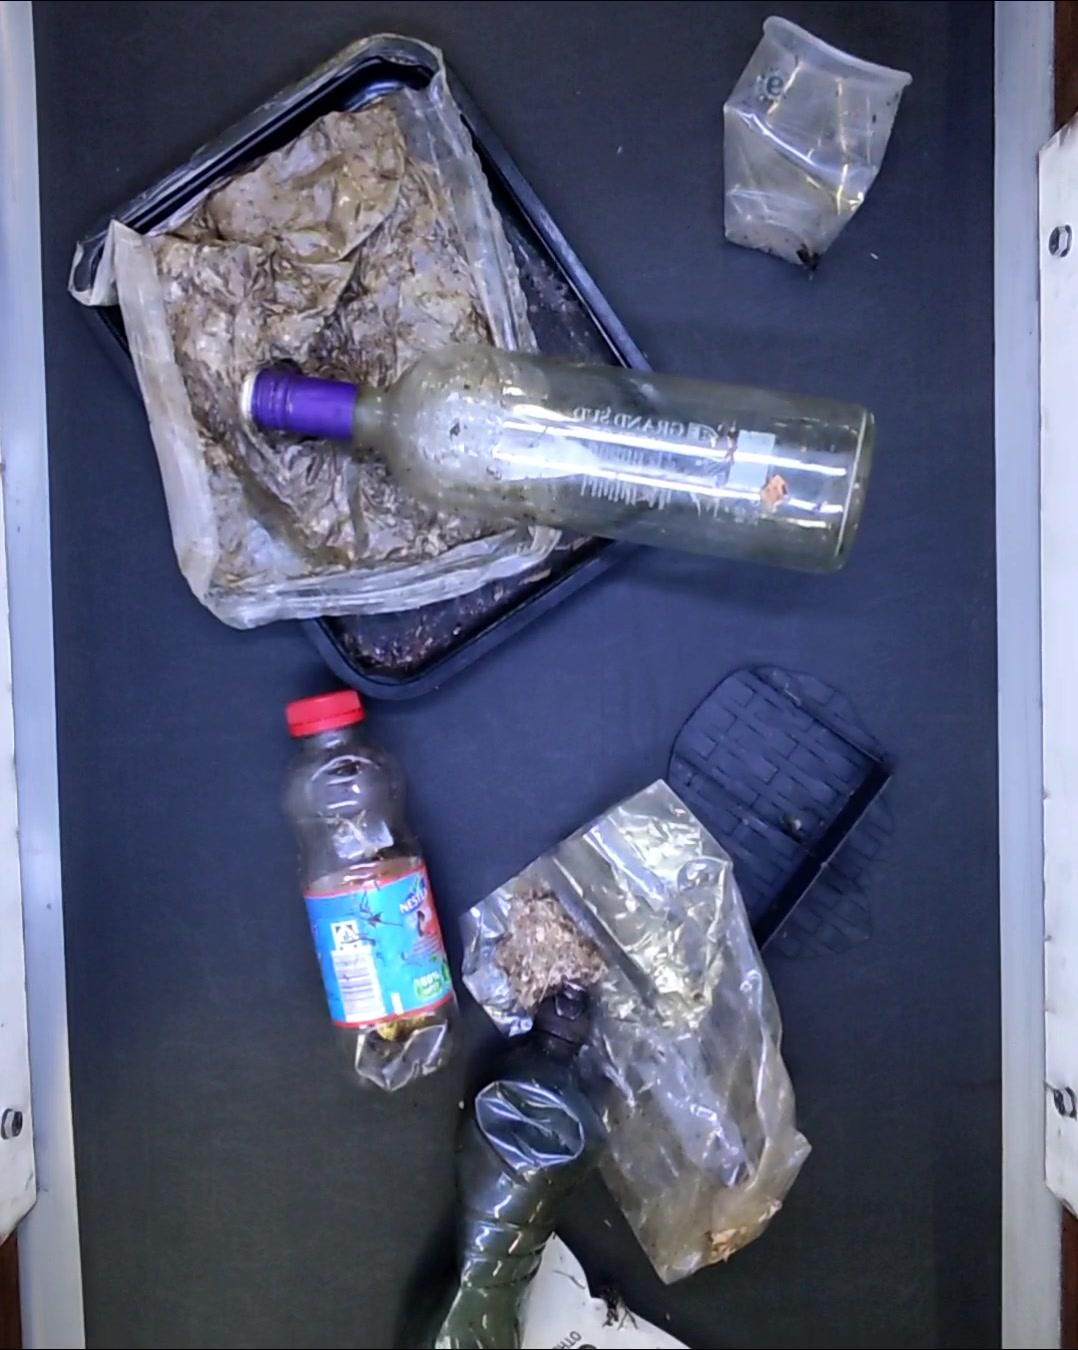Drankflessen - 1-2 liter: (280, 685, 475, 1089), (417, 983, 605, 1350)
Plastic folies of stukken daarvan 2.5- 50 cm: (465, 787, 827, 1283)
Voedselverpakkingen: (79, 36, 693, 709)
